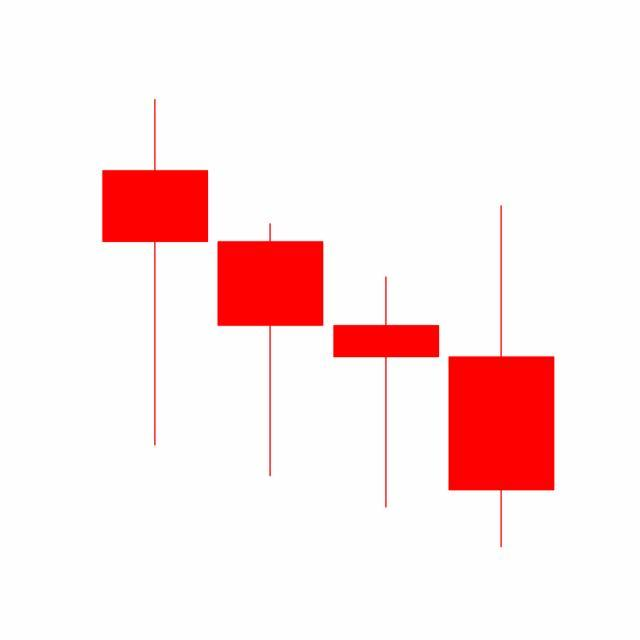Spinning Top: (329, 275, 445, 511)
